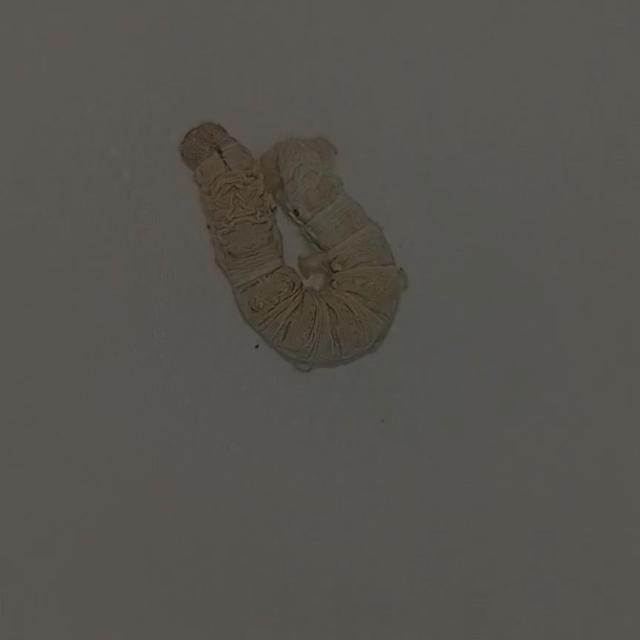Healthy: (168, 102, 419, 391)
